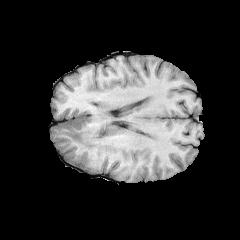glioma: (51, 108, 115, 152)
